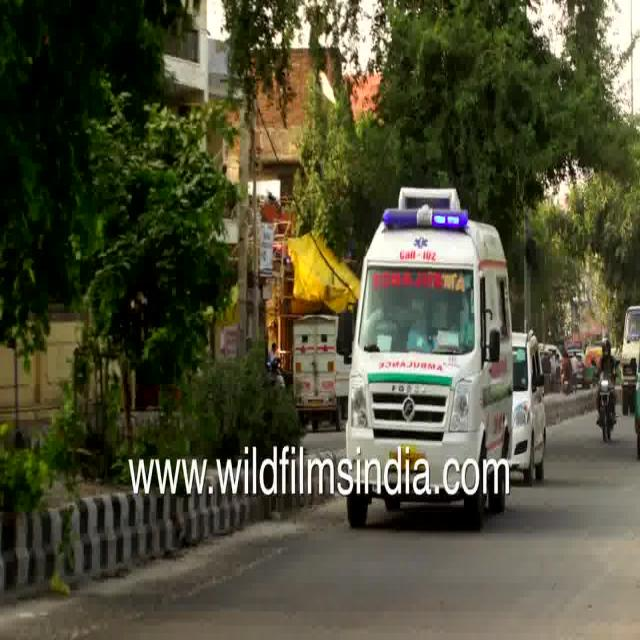ambulance: (341, 181, 520, 457)
